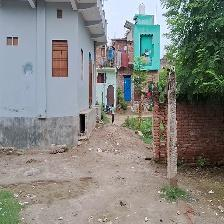Human: (107, 91, 117, 128)
Road: (0, 113, 178, 223)
